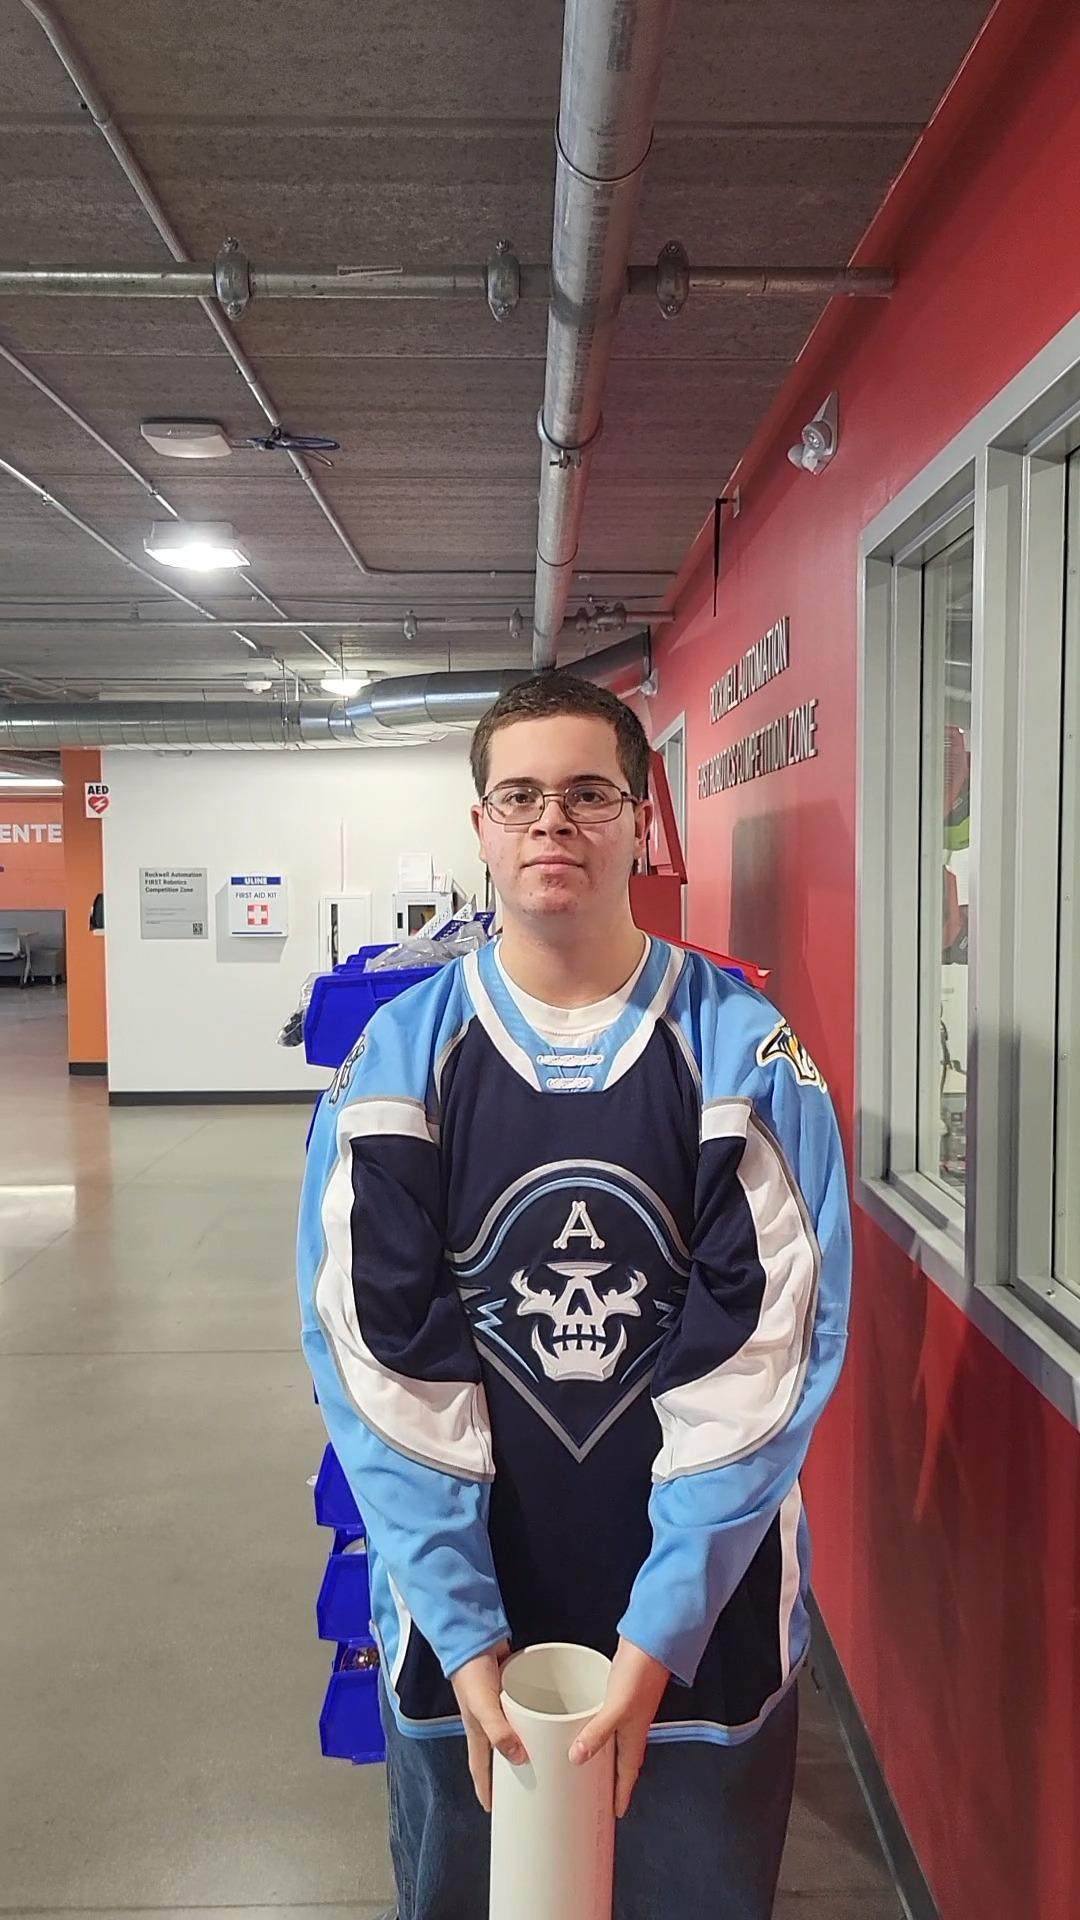coral: (476, 1640, 640, 1920)
